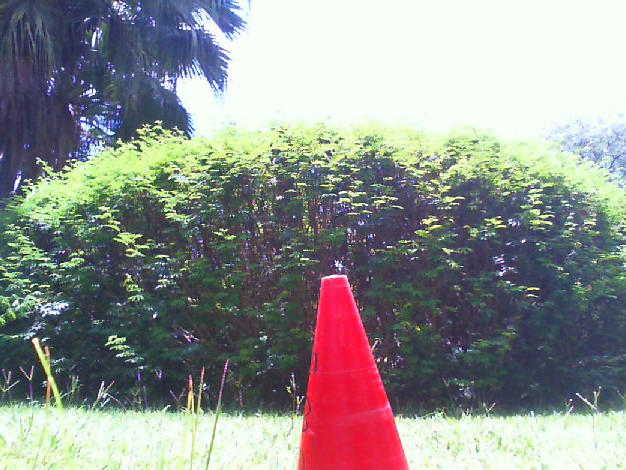0 cone: (296, 274, 410, 470)
